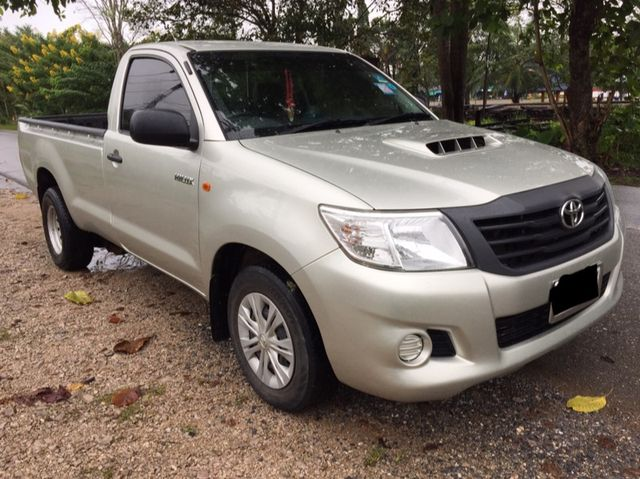pickup: (16, 39, 626, 411)
